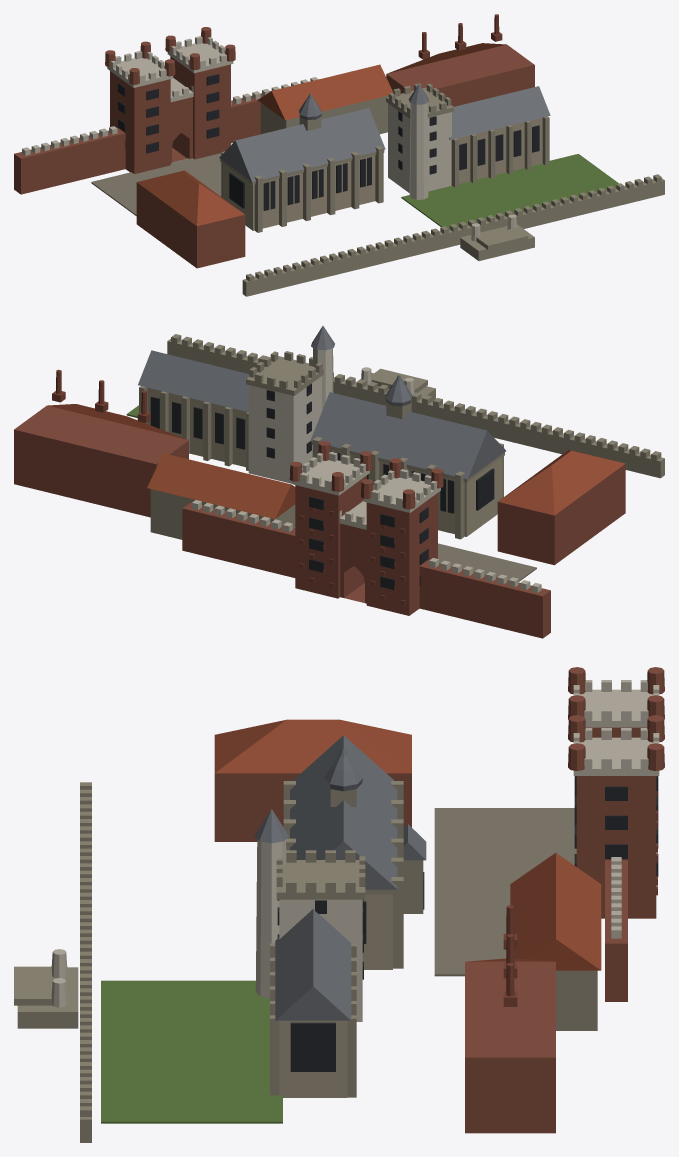
The model's file is lambeth_palace.glb.
3 renders of one model, top to bottom at view 1: azimuth 30°, elevation 25°; view 2: azimuth 150°, elevation 25°; view 3: azimuth 270°, elevation 25°, orthographic. The views are drawn at different scales.
Visible parts, largest first — view 1: lambeth_palace; view 2: lambeth_palace; view 3: lambeth_palace.
Boxes of the visible parts, bbox=[...] form: lambeth_palace: bbox=[14, 14, 664, 296]; lambeth_palace: bbox=[14, 326, 664, 638]; lambeth_palace: bbox=[14, 667, 664, 1142].
Bounding box in the file's own units: 120 × 27.6 × 85.9.
